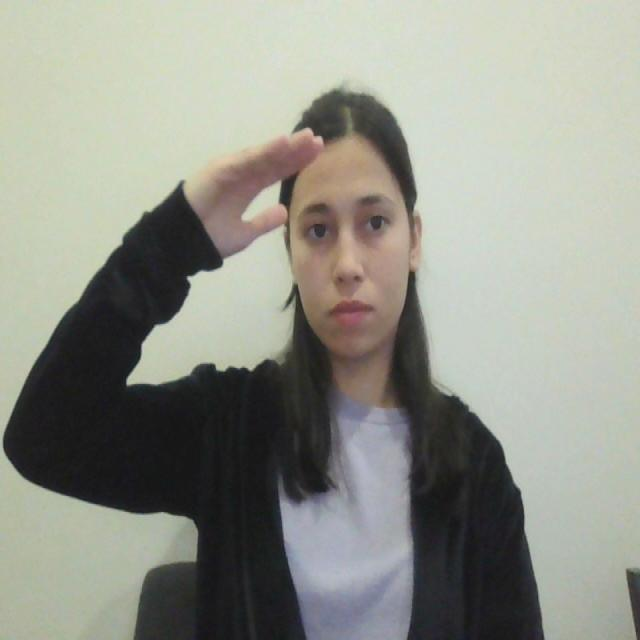Merhaba: (179, 88, 328, 331)
